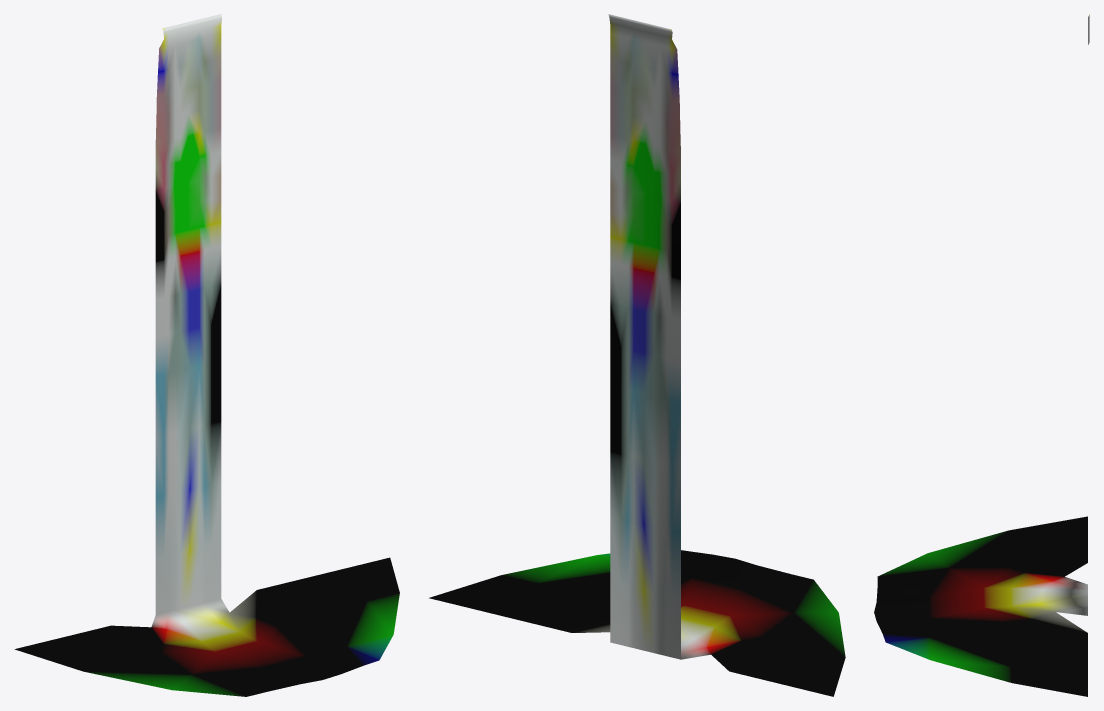
3 views of the same model, side by side, from view 1: azimuth 30°, elevation 25°; view 2: azimuth 150°, elevation 25°; view 3: azimuth 270°, elevation 25° (orthographic). The views are drawn at different scales.
Parts seen in each view (by area): view 1: G:\FFXIV-MapTools\exports\n4t2\bg\ex3\01_nvt_n4\twn\n4t2\bgp; view 2: G:\FFXIV-MapTools\exports\n4t2\bg\ex3\01_nvt_n4\twn\n4t2\bgp; view 3: G:\FFXIV-MapTools\exports\n4t2\bg\ex3\01_nvt_n4\twn\n4t2\bgp.
Boxes of the visible parts, x1,y1,x2,y2 form: G:\FFXIV-MapTools\exports\n4t2\bg\ex3\01_nvt_n4\twn\n4t2\bgp: [14, 14, 399, 696]; G:\FFXIV-MapTools\exports\n4t2\bg\ex3\01_nvt_n4\twn\n4t2\bgp: [429, 14, 845, 696]; G:\FFXIV-MapTools\exports\n4t2\bg\ex3\01_nvt_n4\twn\n4t2\bgp: [874, 14, 1089, 696].
Bounding box in the file's own units: 179 × 266 × 90.63.
